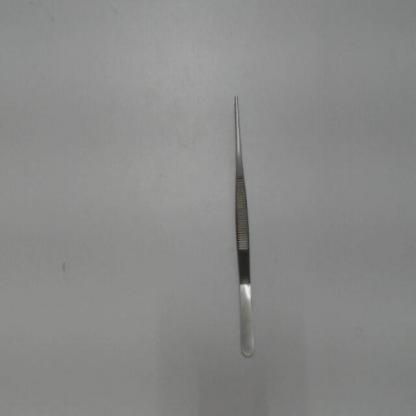Gillies Toothed Dissector: (227, 88, 259, 364)
